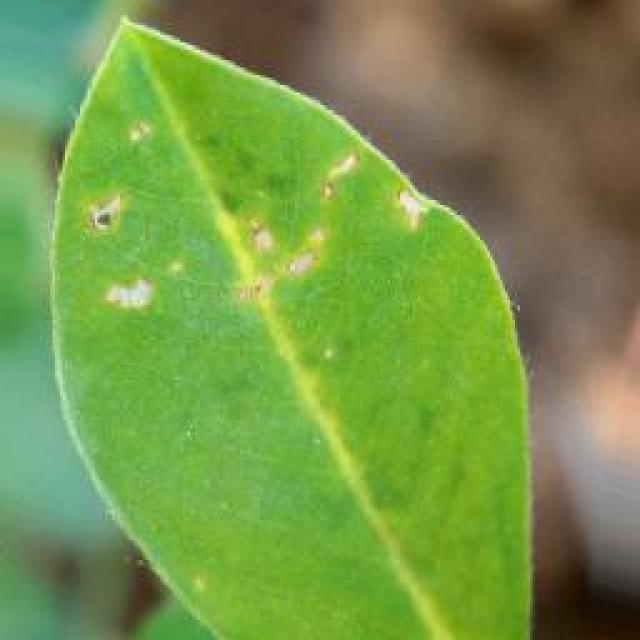Yellow_and_black_sigatoka: (49, 42, 555, 640)
